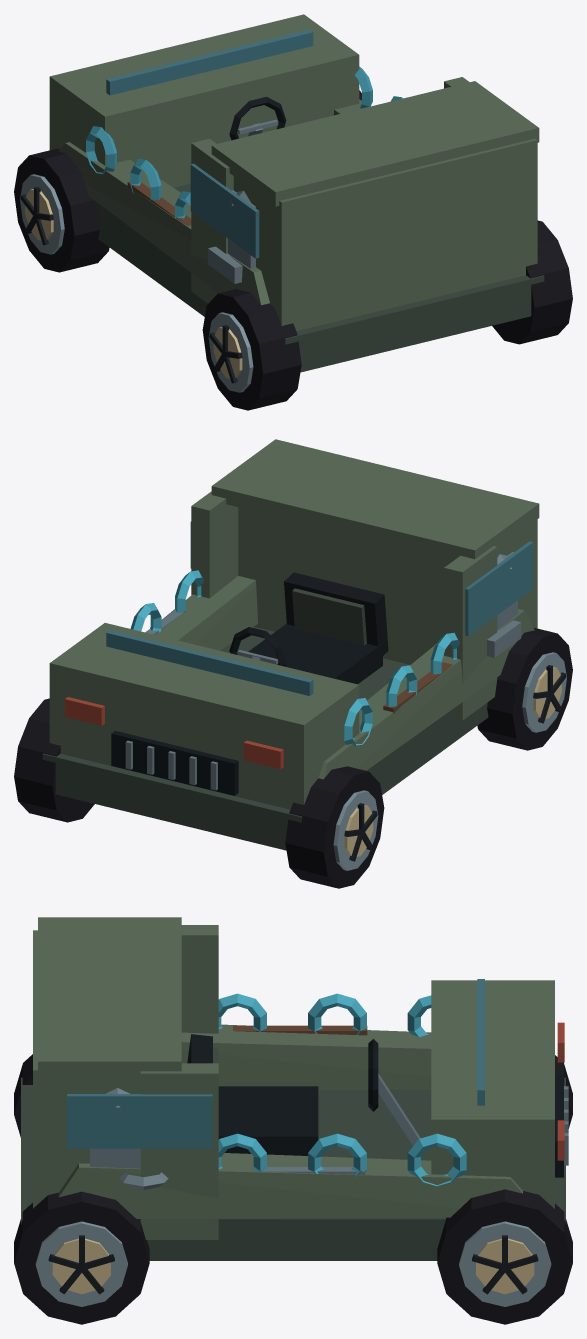
Rendered from kart.glb.
3 views of the same model, one above another, from view 1: azimuth 30°, elevation 25°; view 2: azimuth 150°, elevation 25°; view 3: azimuth 270°, elevation 25° (orthographic). The views are drawn at different scales.
Parts seen in each view (by area): view 1: identity-van-van-utility-body, wheel-rear-left, wheel-front-left, wheel-rear-right, identity-van-motif-water, identity-van-motif-tools, identity-van-driver-cockpit, identity-van-motif-lanterns; view 2: identity-van-van-utility-body, identity-van-driver-cockpit, wheel-front-left, wheel-rear-left, wheel-front-right, identity-van-motif-water, identity-van-motif-tools; view 3: identity-van-van-utility-body, wheel-front-right, wheel-rear-right, identity-van-driver-cockpit, identity-van-motif-water, identity-van-motif-tools, identity-van-motif-lanterns, wheel-rear-left.
Part boxes in pixels (<box>): identity-van-van-utility-body: <box>49,14,544,372</box>; wheel-rear-left: <box>202,289,301,410</box>; wheel-front-left: <box>14,148,109,272</box>; wheel-rear-right: <box>492,220,572,344</box>; identity-van-motif-water: <box>86,66,402,218</box>; identity-van-motif-tools: <box>127,181,242,283</box>; identity-van-driver-cockpit: <box>229,96,286,140</box>; identity-van-motif-lanterns: <box>228,190,255,268</box>; identity-van-van-utility-body: <box>42,439,539,850</box>; identity-van-driver-cockpit: <box>229,572,388,684</box>; wheel-front-left: <box>285,766,384,888</box>; wheel-rear-left: <box>477,627,572,750</box>; wheel-front-right: <box>14,698,94,822</box>; identity-van-motif-water: <box>130,570,459,746</box>; identity-van-motif-tools: <box>145,610,521,713</box>; identity-van-van-utility-body: <box>21,917,568,1260</box>; wheel-front-right: <box>437,1189,572,1324</box>; wheel-rear-right: <box>14,1191,149,1324</box>; identity-van-driver-cockpit: <box>187,1034,420,1155</box>; identity-van-motif-water: <box>218,993,466,1186</box>; identity-van-motif-tools: <box>119,1025,367,1189</box>; identity-van-motif-lanterns: <box>90,1088,140,1168</box>; wheel-rear-left: <box>14,1054,32,1137</box>.
Bounding box in the file's own units: 2.13 × 1.38 × 2.8.
